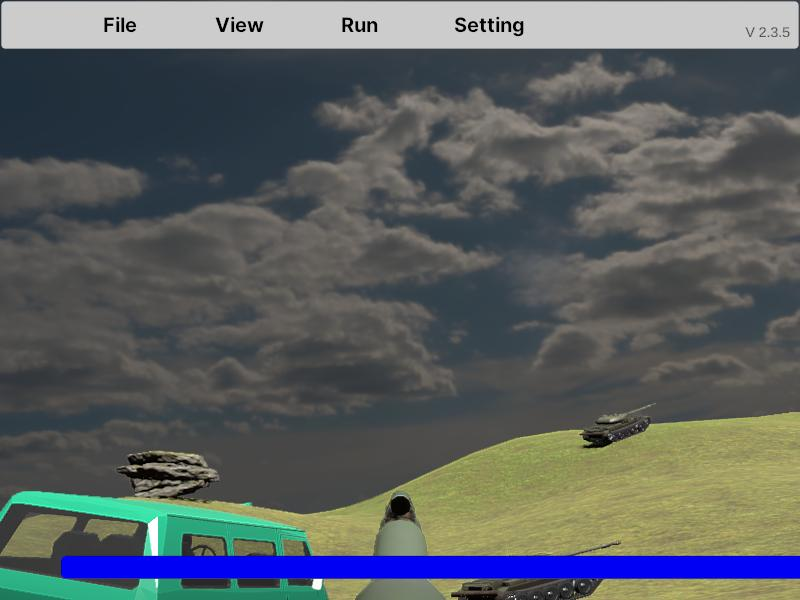Tank: (446, 537, 623, 600), (581, 402, 656, 447)
car: (2, 496, 333, 599)
